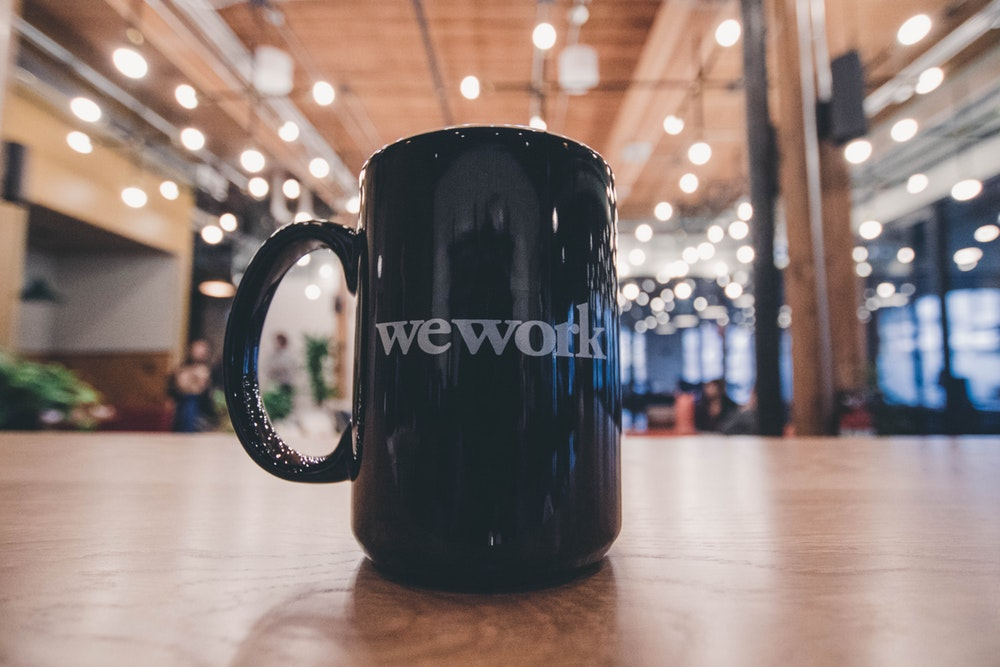wework: (371, 298, 614, 365)
